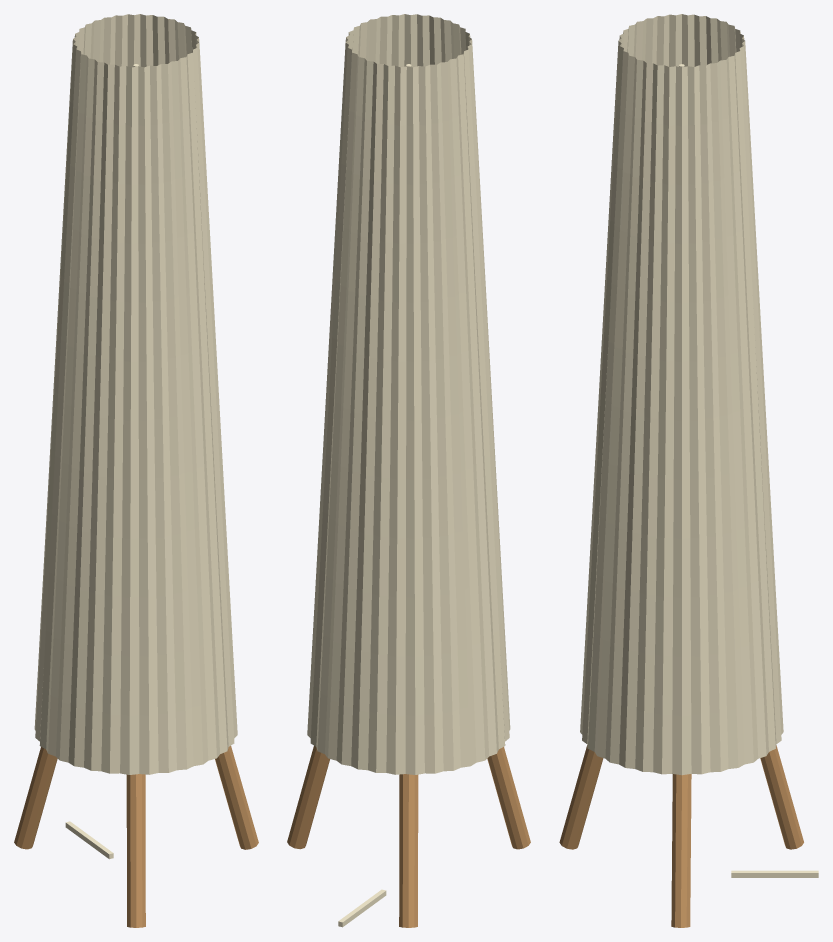
The model's file is okensand.glb.
3 renders of one model, left to right at view 1: azimuth 30°, elevation 25°; view 2: azimuth 150°, elevation 25°; view 3: azimuth 270°, elevation 25°, orthographic.
Parts seen in each view (by area): view 1: okensand; view 2: okensand; view 3: okensand.
Boxes of the visible parts, box(x1,y1,x2,y2) form: okensand: box(14, 14, 258, 927); okensand: box(287, 14, 530, 927); okensand: box(559, 14, 818, 927).
Bounding box in the file's own units: 0.4151 × 1.59 × 0.4454.
